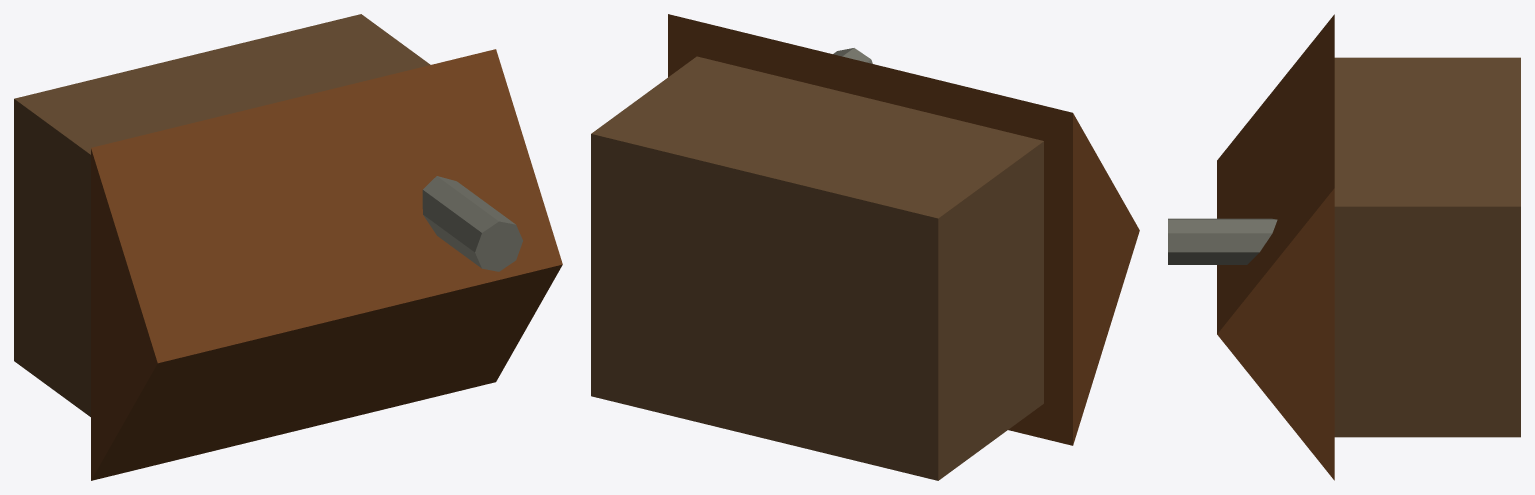
The model's file is SM_ShCottageHouse.obj.
The picture shows the model from 3 angles, left to right: view 1: azimuth 30°, elevation 25°; view 2: azimuth 150°, elevation 25°; view 3: azimuth 270°, elevation 25°; orthographic projection. The views are drawn at different scales.
Size of the model in its own units: 420 by 330 by 360.
